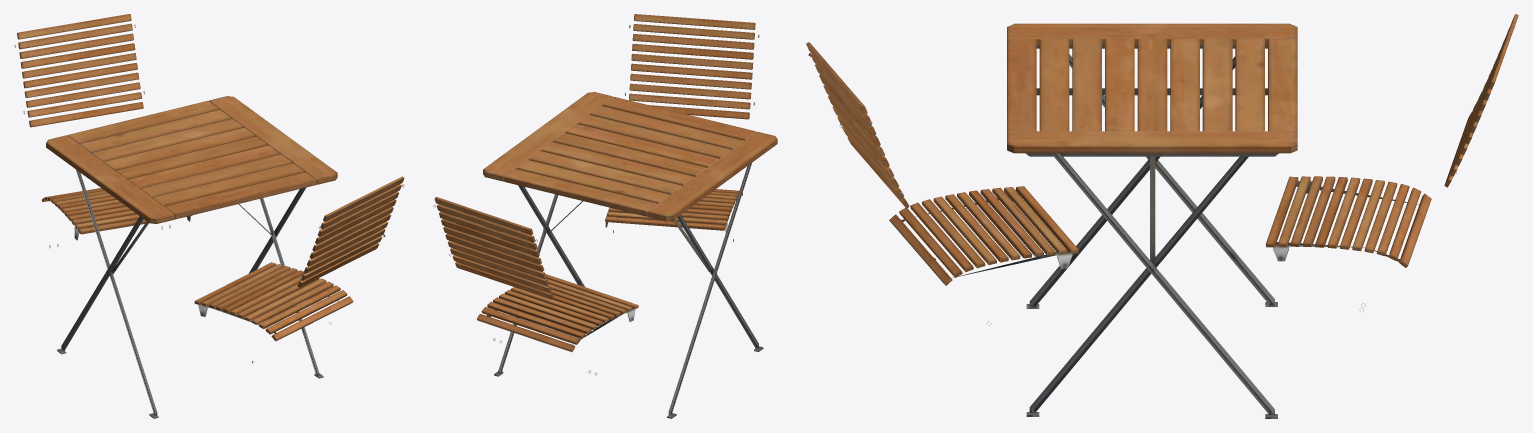
The model's file is terrasse_cafe_lod1.glb.
The picture shows the model from 3 angles, left to right: view 1: azimuth 30°, elevation 25°; view 2: azimuth 150°, elevation 25°; view 3: azimuth 270°, elevation 25°; orthographic projection. The views are drawn at different scales.
Parts seen in each view (by area): view 1: outdoor_table_chair_set_01_table, outdoor_table_chair_set_01_chair_01; view 2: outdoor_table_chair_set_01_table, outdoor_table_chair_set_01_chair_01; view 3: outdoor_table_chair_set_01_table, outdoor_table_chair_set_01_chair_01.
Boxes of the visible parts, x1,y1,x2,y2 form: outdoor_table_chair_set_01_table: [46, 96, 337, 418]; outdoor_table_chair_set_01_chair_01: [14, 14, 404, 363]; outdoor_table_chair_set_01_table: [483, 92, 777, 418]; outdoor_table_chair_set_01_chair_01: [433, 14, 759, 375]; outdoor_table_chair_set_01_table: [1007, 23, 1297, 418]; outdoor_table_chair_set_01_chair_01: [806, 14, 1518, 325].
Size of the model in its own units: 0.738 by 0.8467 by 1.7.
Materials: 2 (2 with a texture image).
